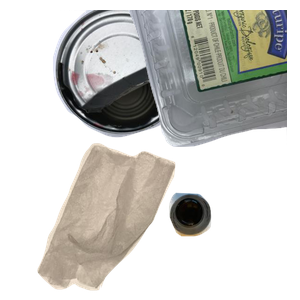glass: (166, 190, 300, 300)
metal: (50, 10, 262, 140)
plastic: (60, 10, 300, 149)
trash: (35, 140, 203, 300)
